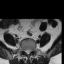CCS_normal: (27, 48, 29, 56)
LFS_normal: (31, 46, 33, 53)
LLS_normal: (29, 48, 31, 55)
RFS_stenosis: (22, 46, 25, 53)
RLS_normal: (25, 47, 27, 55)
